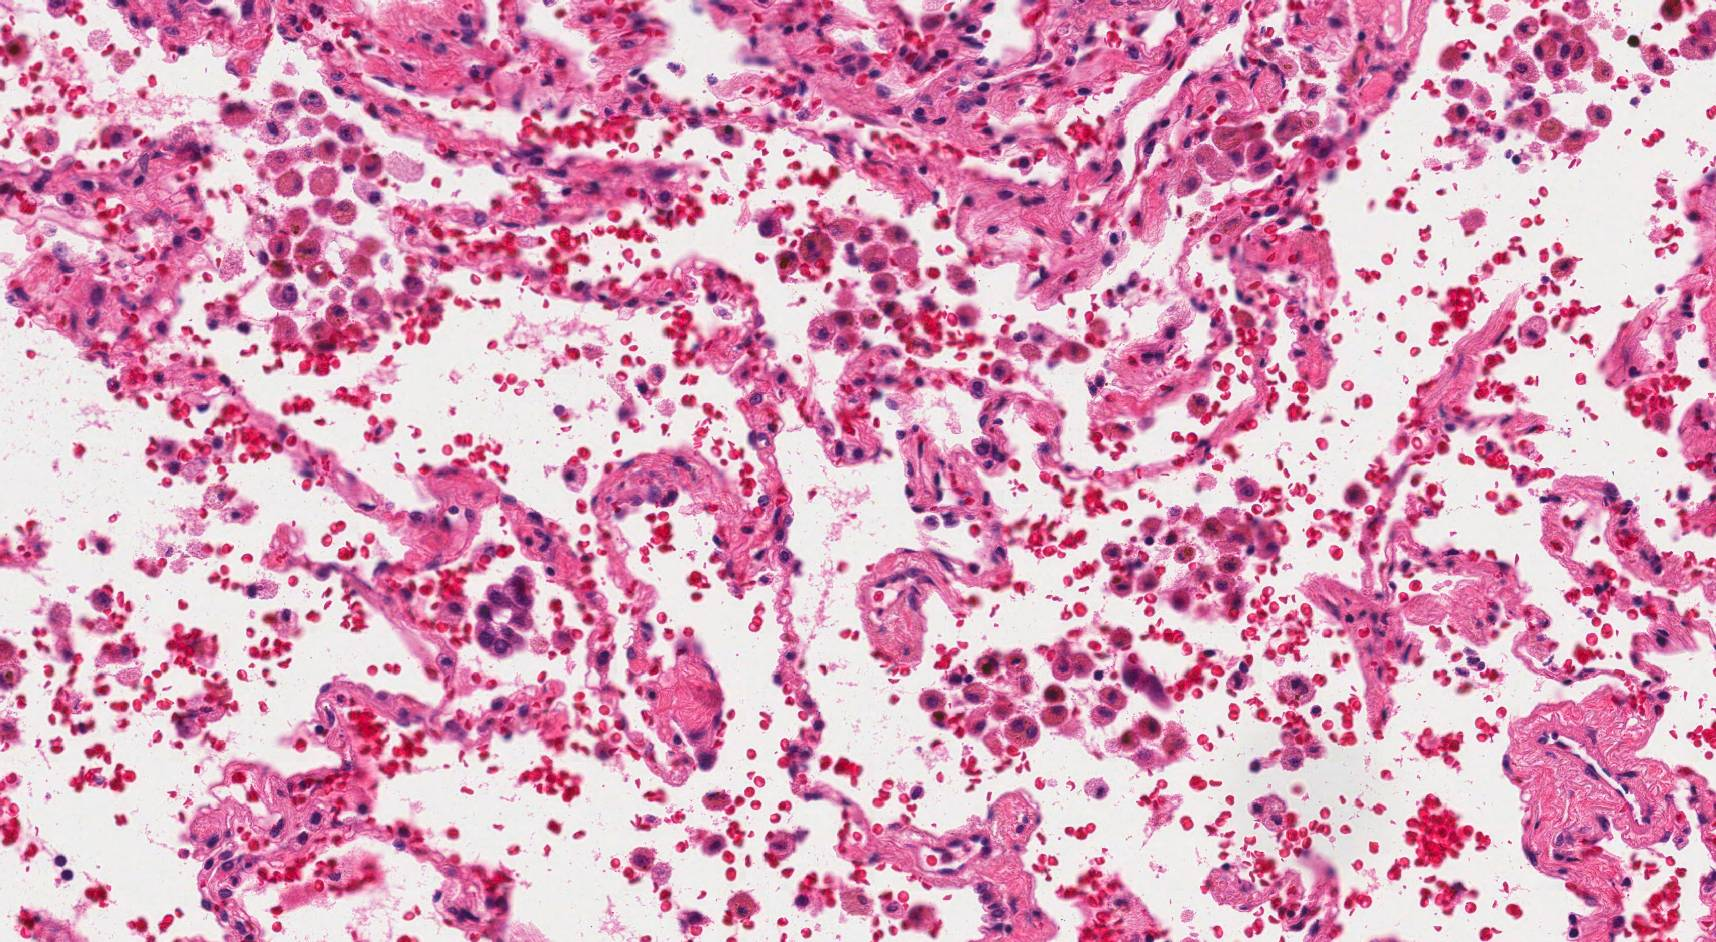stas: (474, 567, 536, 658)
